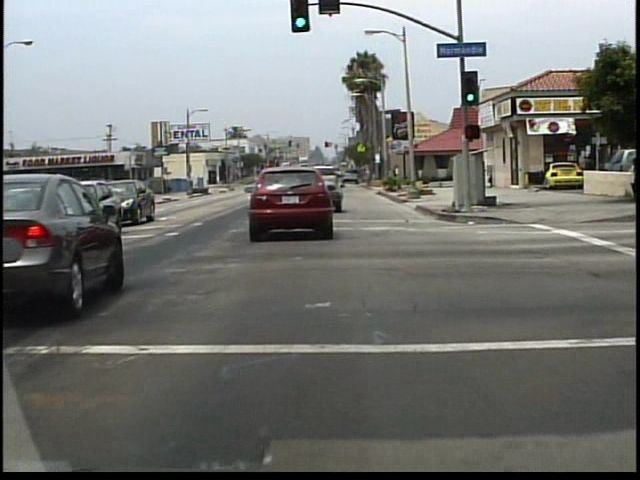person: (581, 151, 598, 194)
